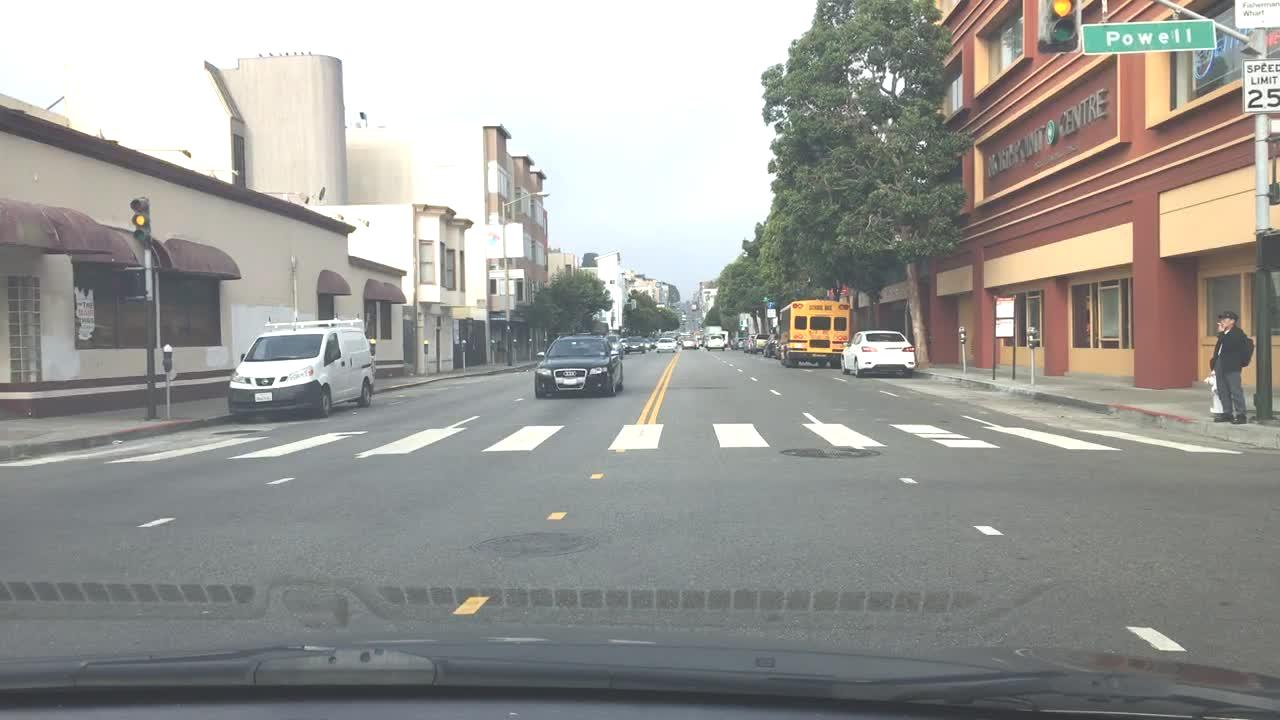Audi: (556, 366, 583, 381)
